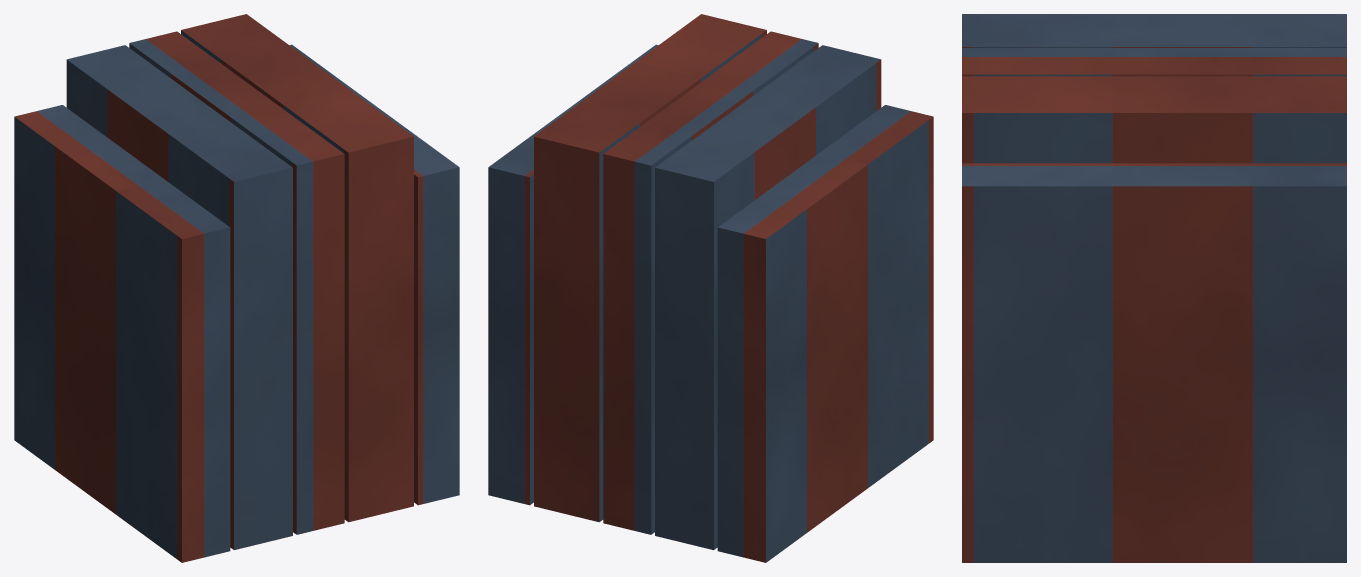
The model's file is BookGroup_Small_2_LOD1.gltf.
3 views of the same model, side by side, from view 1: azimuth 30°, elevation 25°; view 2: azimuth 150°, elevation 25°; view 3: azimuth 270°, elevation 25° (orthographic). The views are drawn at different scales.
Parts seen in each view (by area): view 1: BookGroup_Small_2_LOD1; view 2: BookGroup_Small_2_LOD1; view 3: BookGroup_Small_2_LOD1.
Part boxes in pixels (left/top/right/bottom): BookGroup_Small_2_LOD1: left=14, top=14, right=459, bottom=562; BookGroup_Small_2_LOD1: left=488, top=14, right=933, bottom=562; BookGroup_Small_2_LOD1: left=962, top=14, right=1346, bottom=562.
Bounding box in the file's own units: 0.22 × 0.28 × 0.23.
Materials: 1 (1 with a texture image).
